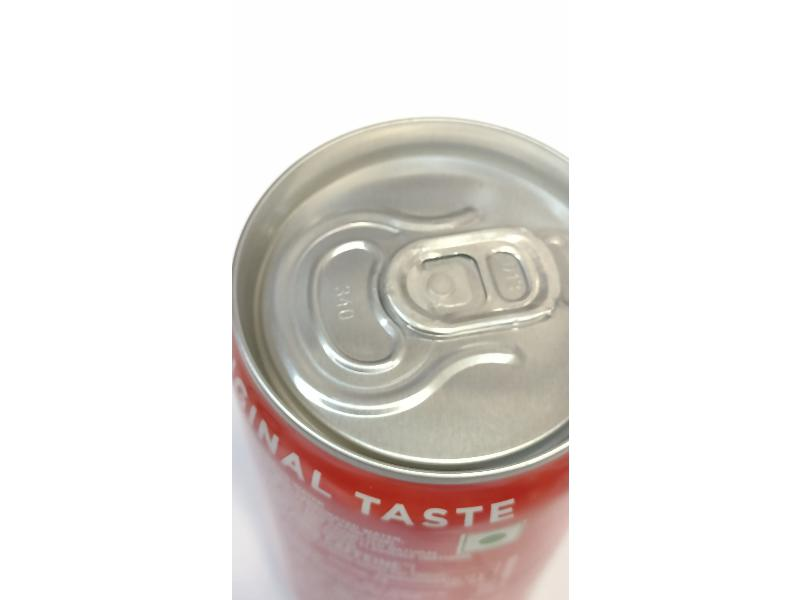can: (220, 111, 570, 597)
